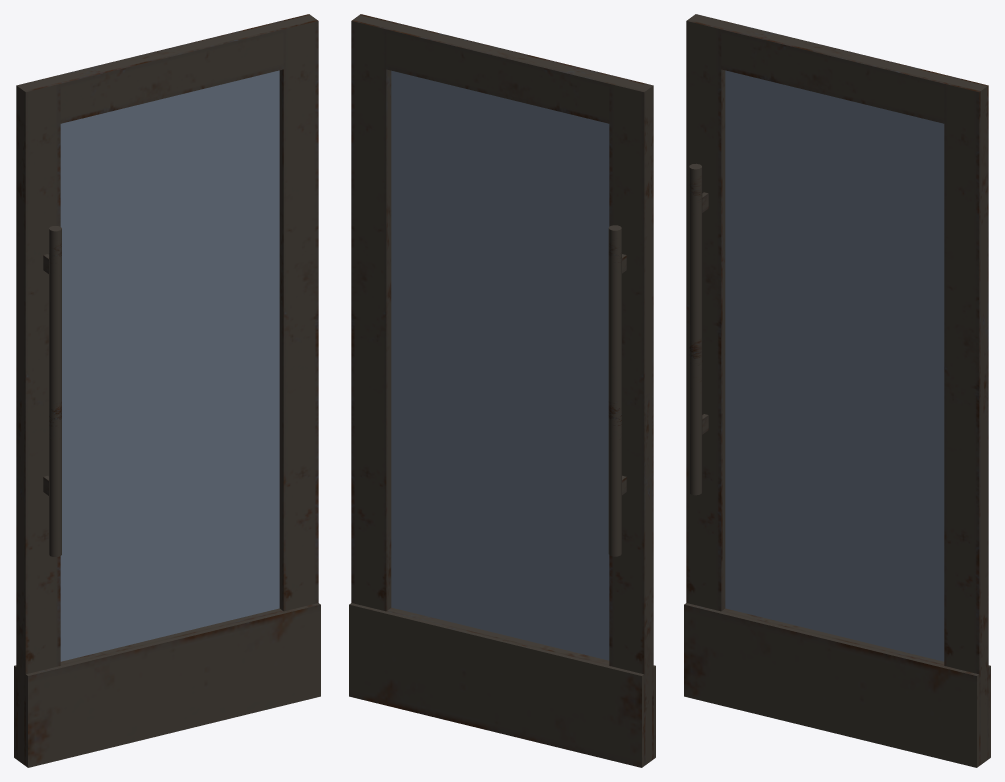
File: Door_2.gltf
3 renders of one model, left to right at view 1: azimuth 30°, elevation 25°; view 2: azimuth 150°, elevation 25°; view 3: azimuth 330°, elevation 25°, orthographic.
Visible parts, largest first — view 1: Door_2; view 2: Door_2; view 3: Door_2.
Boxes of the visible parts, x1=… form: Door_2: x1=14, y1=14, x2=320, y2=767; Door_2: x1=349, y1=14, x2=655, y2=767; Door_2: x1=684, y1=14, x2=990, y2=767.
Size of the model in its own units: 1 by 2.2 by 0.2103.
2 materials, 1 textured.
